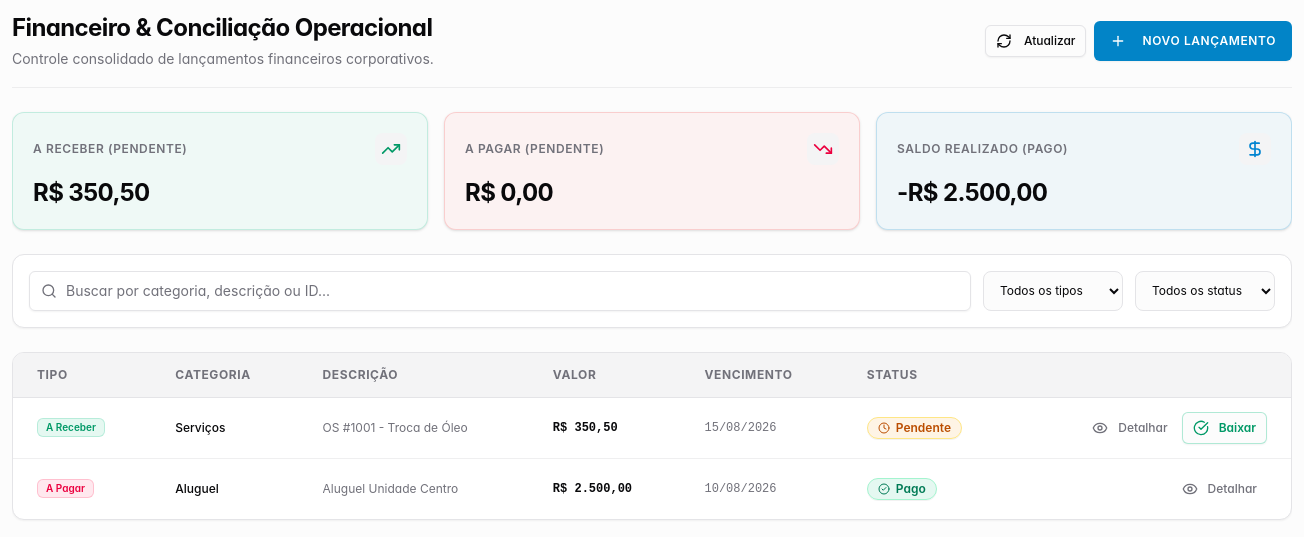
Test case: Financial Module (Integrated Management) › 3. should filter records by search text
This screenshot has width=1304, height=537.
Expected: the text "OS #1001 - Troca de Óleo" is shown, x1=323 y1=420 x2=468 y2=435
Type "Aluguel" into the field with placeholder "Buscar por categoria, descrição ou ID..." at (500, 291), box x1=29 y1=271 x2=971 y2=311
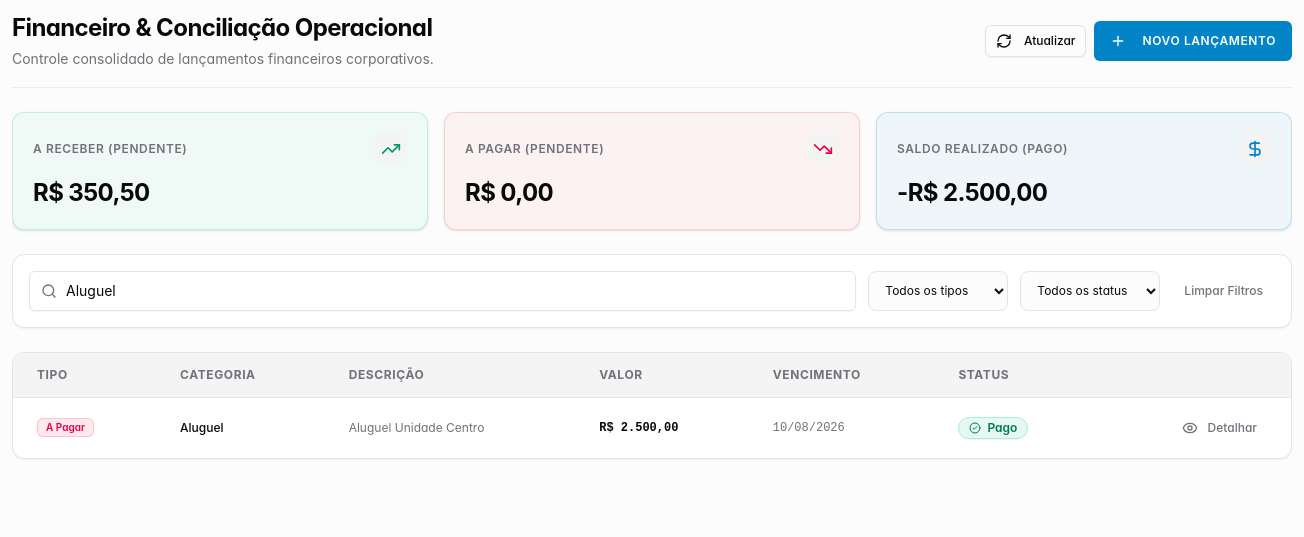
Expected: the text "Aluguel Unidade Centro" is shown, x1=349 y1=420 x2=484 y2=435
Now the text "OS #1001 - Troca de Óleo" is gone
